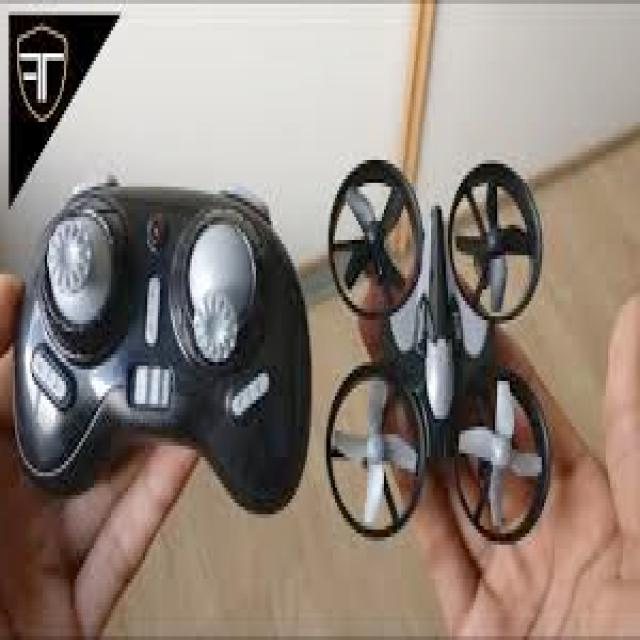drone: (315, 128, 550, 564)
